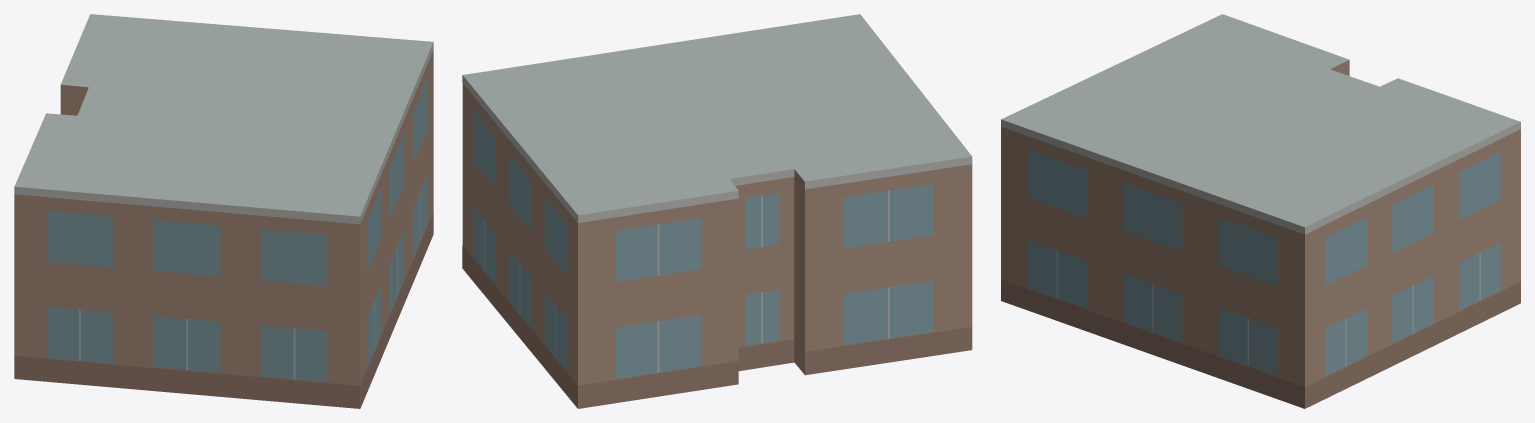
File: survey-upis-32704693.glb
The picture shows the model from 3 angles, left to right: view 1: azimuth 30°, elevation 25°; view 2: azimuth 150°, elevation 25°; view 3: azimuth 270°, elevation 25°; orthographic projection. The views are drawn at different scales.
Parts seen in each view (by area): view 1: survey-upis-32704693.tmp; view 2: survey-upis-32704693.tmp; view 3: survey-upis-32704693.tmp.
Part boxes in pixels (x1,y1,x2,y2): survey-upis-32704693.tmp: [14, 14, 433, 408]; survey-upis-32704693.tmp: [462, 14, 972, 408]; survey-upis-32704693.tmp: [1001, 14, 1520, 408].
Size of the model in its own units: 15.38 by 6.1 by 15.84.
